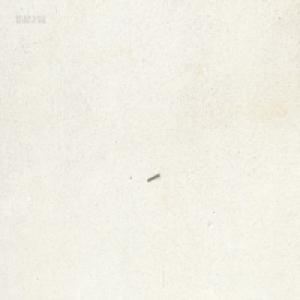Bolt: (146, 171, 159, 181)
